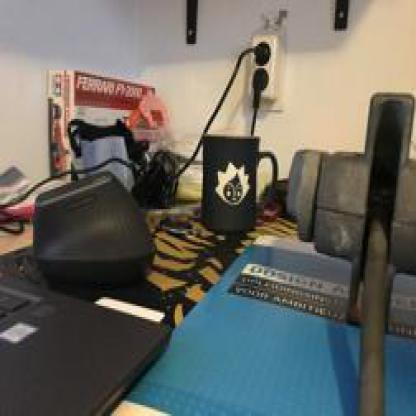Twistlock: (288, 70, 414, 414)
